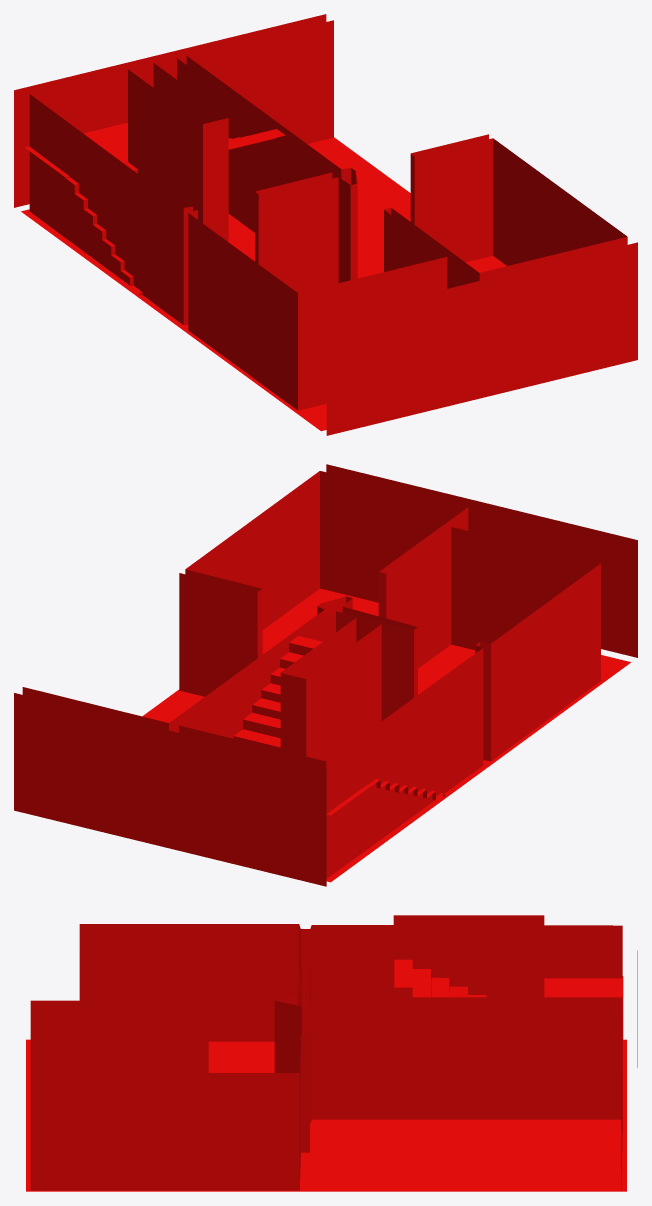
Rendered from floor2-s1-collision.gltf.
3 renders of one model, top to bottom at view 1: azimuth 30°, elevation 25°; view 2: azimuth 150°, elevation 25°; view 3: azimuth 270°, elevation 25°, orthographic.
Visible parts, largest first — view 1: Plane167; view 2: Plane167; view 3: Plane167.
Boxes of the visible parts, x1,y1,x2,y2 form: Plane167: [14, 14, 637, 435]; Plane167: [14, 464, 637, 886]; Plane167: [26, 915, 637, 1191].
Size of the model in its own units: 6.61 by 3.31 by 11.42.
